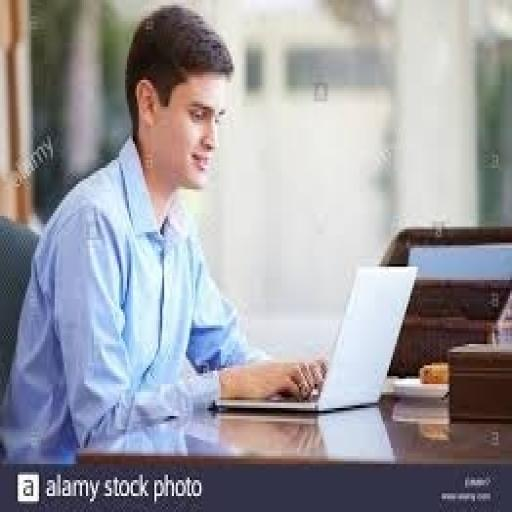using_laptop: (213, 262, 418, 414)
